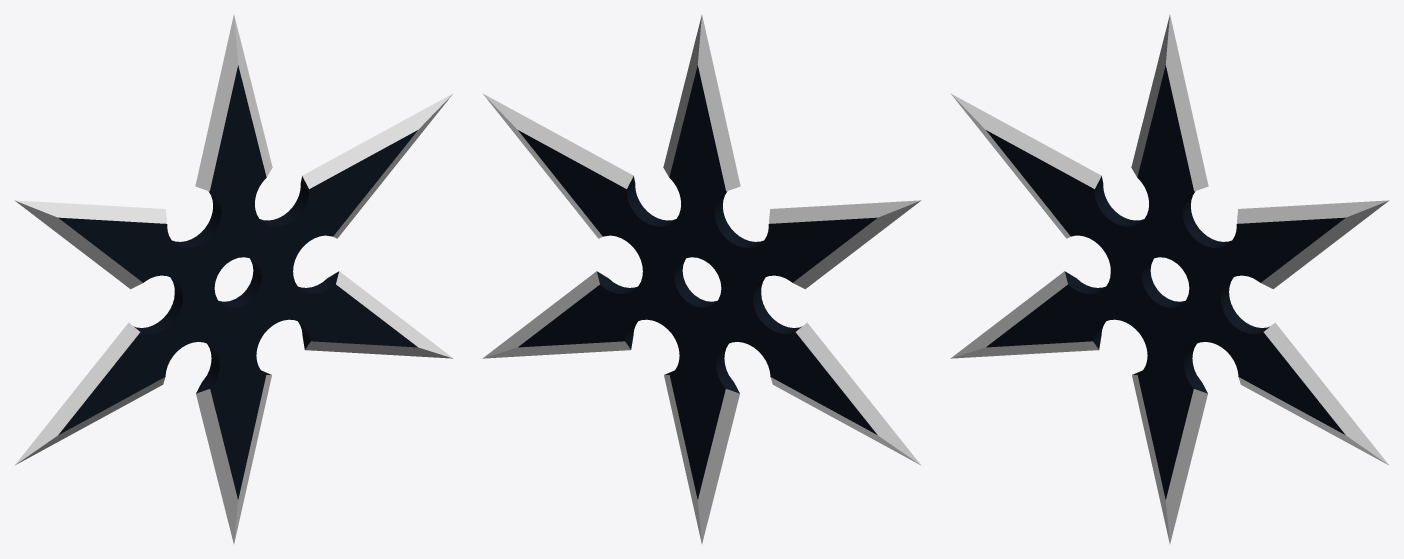
File: eye.glb
The picture shows the model from 3 angles, left to right: view 1: azimuth 30°, elevation 25°; view 2: azimuth 150°, elevation 25°; view 3: azimuth 330°, elevation 25°; orthographic projection.
Parts seen in each view (by area): view 1: Shuriken_1; view 2: Shuriken_1; view 3: Shuriken_1.
Boxes of the visible parts, bbox=[...] form: Shuriken_1: bbox=[14, 15, 453, 543]; Shuriken_1: bbox=[482, 15, 921, 543]; Shuriken_1: bbox=[950, 15, 1389, 543].
Bounding box in the file's own units: 1.73 × 2 × 0.0576.
